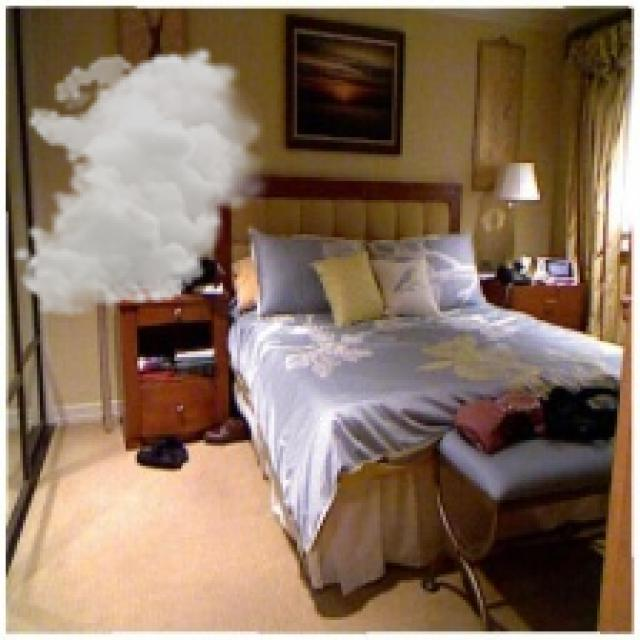smoke: (12, 46, 274, 317)
